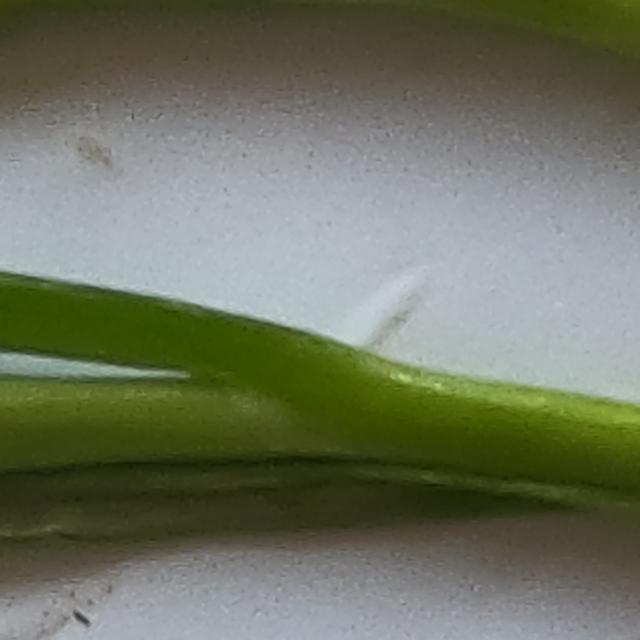green_onion: (0, 273, 640, 545)
